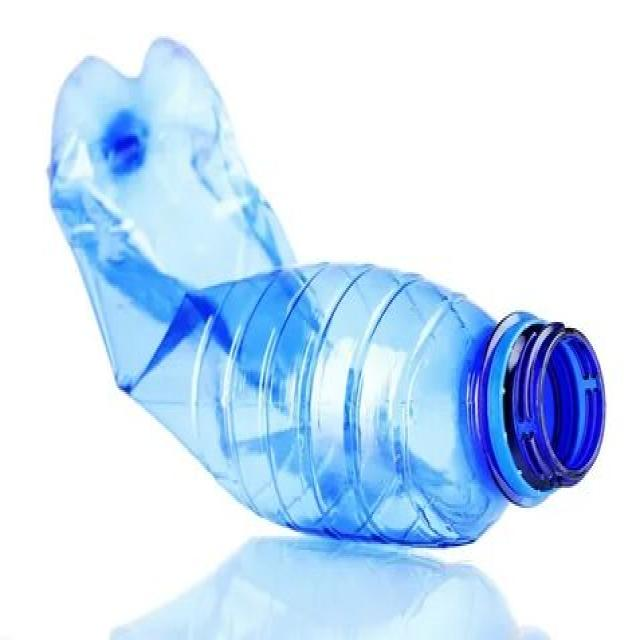blue: (46, 33, 607, 550)
